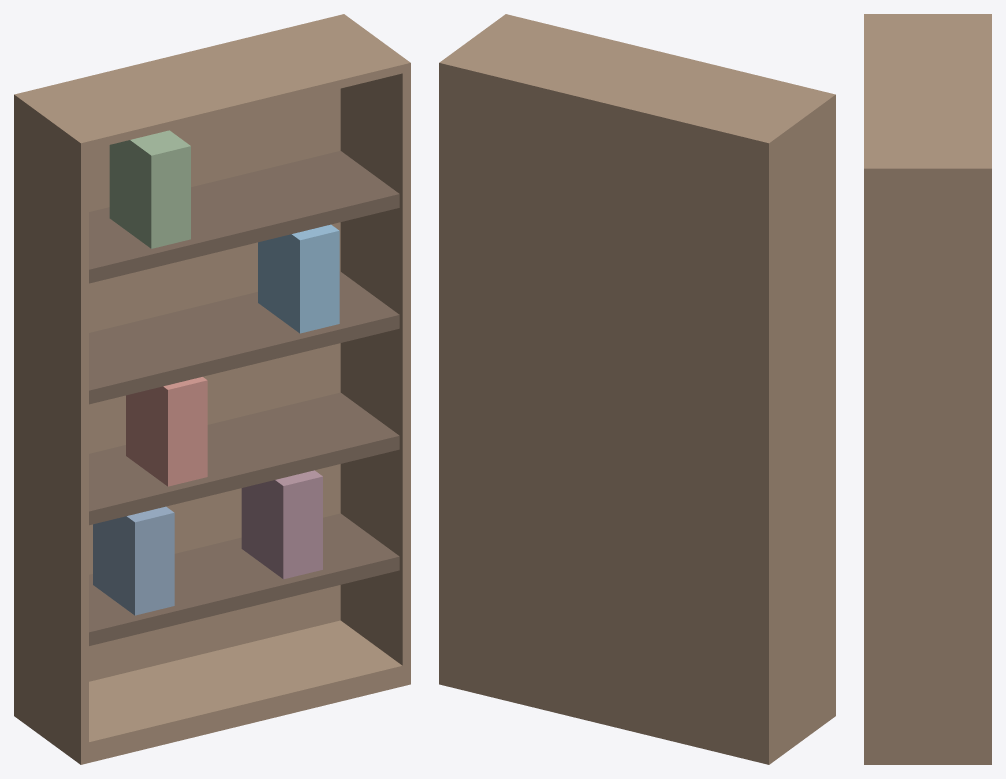
File: bookshelf_basic.glb
The picture shows the model from 3 angles, left to right: view 1: azimuth 30°, elevation 25°; view 2: azimuth 150°, elevation 25°; view 3: azimuth 270°, elevation 25°; orthographic projection. The views are drawn at different scales.
Parts seen in each view (by area): view 1: p000, side_left, side_right, top, plinth, p002, p003, p004, p001, p009, p007, p005 (+2 smaller); view 2: p000, side_left, top, plinth; view 3: side_right, top, p000.
Part boxes in pixels (bbox=[...]): p000: bbox=[14, 88, 340, 719]; side_left: bbox=[14, 98, 88, 764]; side_right: bbox=[340, 63, 410, 686]; top: bbox=[14, 14, 410, 150]; plinth: bbox=[14, 620, 410, 764]; p002: bbox=[89, 392, 399, 525]; p003: bbox=[89, 271, 399, 404]; p004: bbox=[89, 151, 399, 283]; p001: bbox=[89, 513, 399, 645]; p009: bbox=[109, 130, 190, 248]; p007: bbox=[126, 377, 207, 486]; p005: bbox=[93, 506, 174, 615]; p000: bbox=[439, 63, 773, 764]; side_left: bbox=[769, 95, 835, 764]; top: bbox=[439, 14, 835, 151]; plinth: bbox=[440, 664, 835, 764]; side_right: bbox=[864, 168, 991, 764]; top: bbox=[864, 14, 991, 176]; p000: bbox=[983, 168, 991, 764].
Bounding box in the file's own units: 1 × 1.8 × 0.35.
